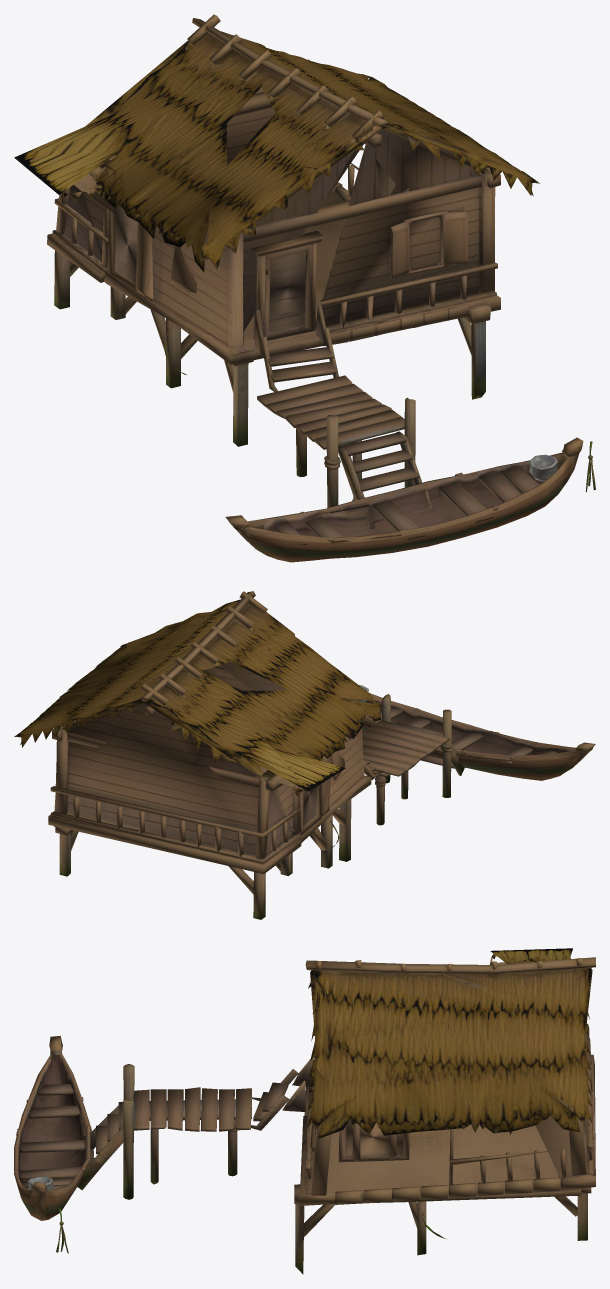
File: selected.glb
3 views of the same model, one above another, from view 1: azimuth 30°, elevation 25°; view 2: azimuth 150°, elevation 25°; view 3: azimuth 270°, elevation 25° (orthographic). The views are drawn at different scales.
Visible parts, largest first — view 1: tripo_node_2af81b65-be3c-432f-9ffa-8538230b1cac; view 2: tripo_node_2af81b65-be3c-432f-9ffa-8538230b1cac; view 3: tripo_node_2af81b65-be3c-432f-9ffa-8538230b1cac.
Boxes of the visible parts, x1,y1,x2,y2 form: tripo_node_2af81b65-be3c-432f-9ffa-8538230b1cac: (14,14,595,562); tripo_node_2af81b65-be3c-432f-9ffa-8538230b1cac: (14,591,595,919); tripo_node_2af81b65-be3c-432f-9ffa-8538230b1cac: (14,948,595,1274).
Bounding box in the file's own units: 0.8145 × 0.5176 × 0.998.
Materials: 1 (1 with a texture image).
